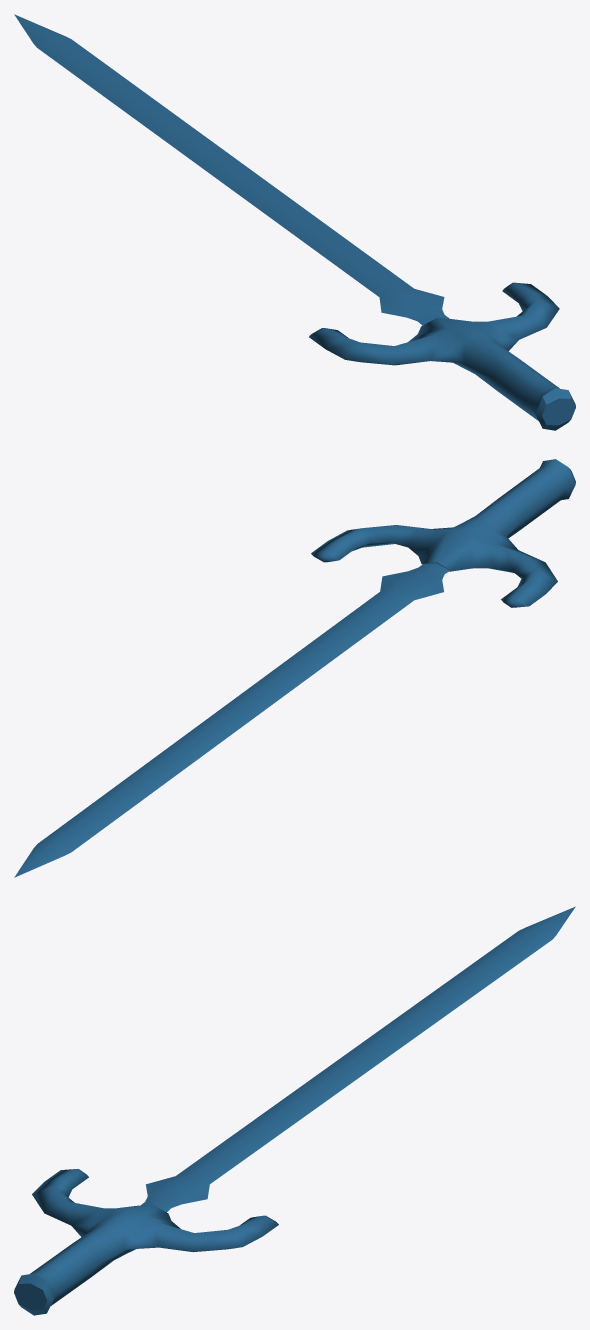
File: Sword.FBX
The picture shows the model from 3 angles, top to bottom: view 1: azimuth 30°, elevation 25°; view 2: azimuth 150°, elevation 25°; view 3: azimuth 330°, elevation 25°; orthographic projection.
Visible parts, largest first — view 1: Object001; view 2: Object001; view 3: Object001.
Part boxes in pixels (x1,y1,x2,y2): Object001: [14, 14, 575, 430]; Object001: [14, 459, 575, 877]; Object001: [14, 906, 575, 1315].
Bounding box in the file's own units: 34.98 × 6.42 × 150.
